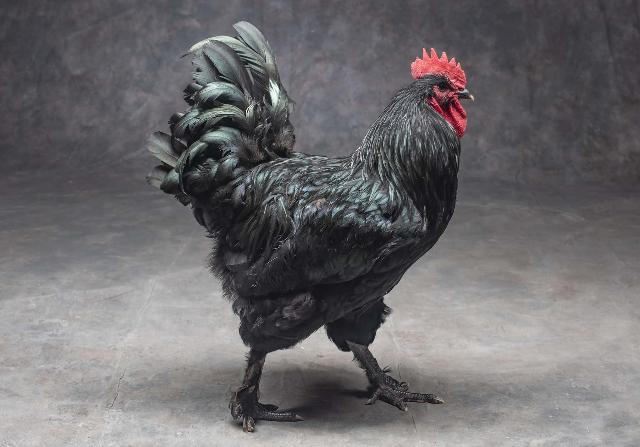Chicken: (147, 18, 477, 434)
